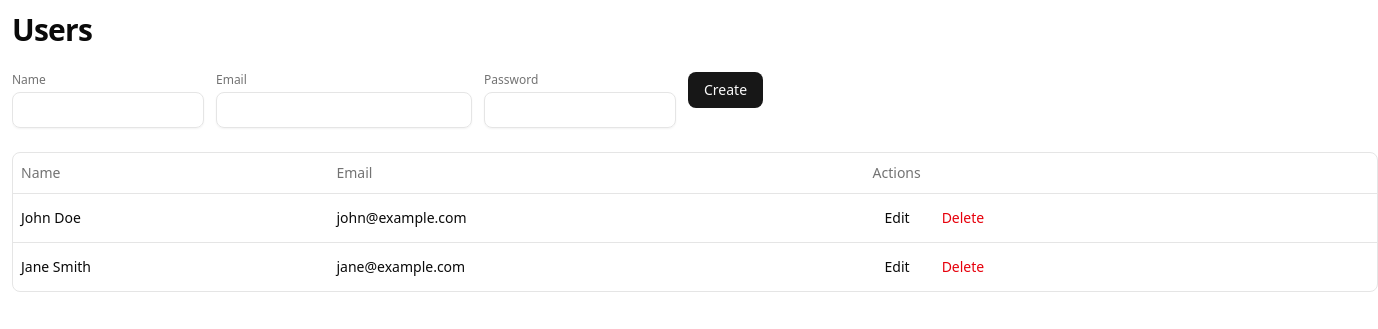
UsersPage › shows validation error for short password
This screenshot has width=1378, height=329.
Expected: the text "John Doe" is shown, [13,193,328,242]
In the field labelled "Name": [108, 110] box [12,92,204,128], type "Test User"
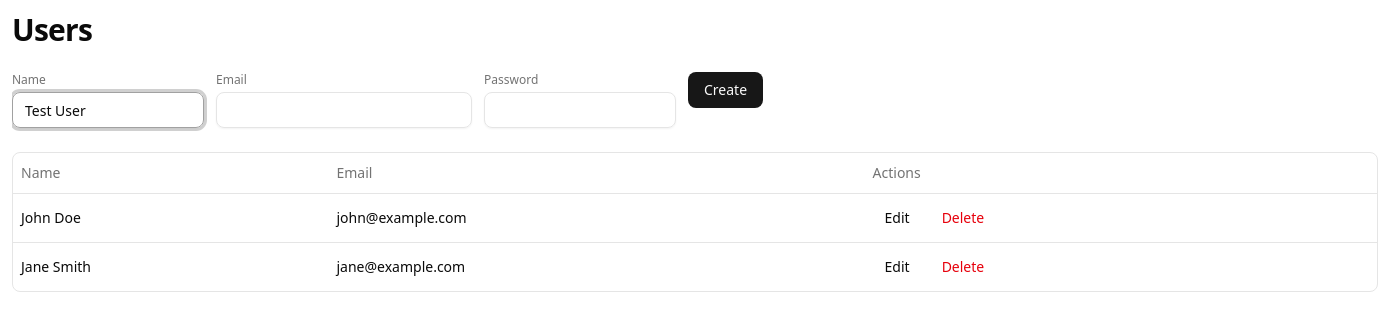
In the field labelled "Email": [344, 110] box [216,92,472,128], type "test@example.com"
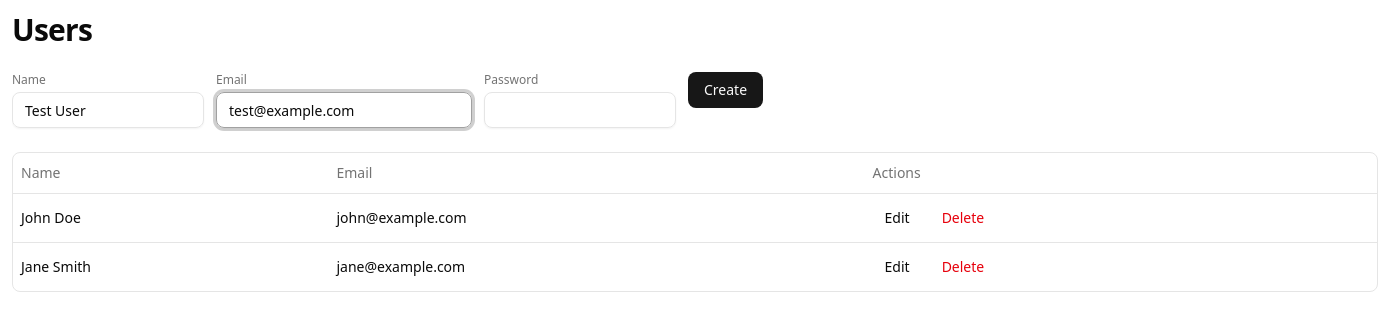
In the password field labelled "Password": [580, 110] box [484,92,676,128], type "short"
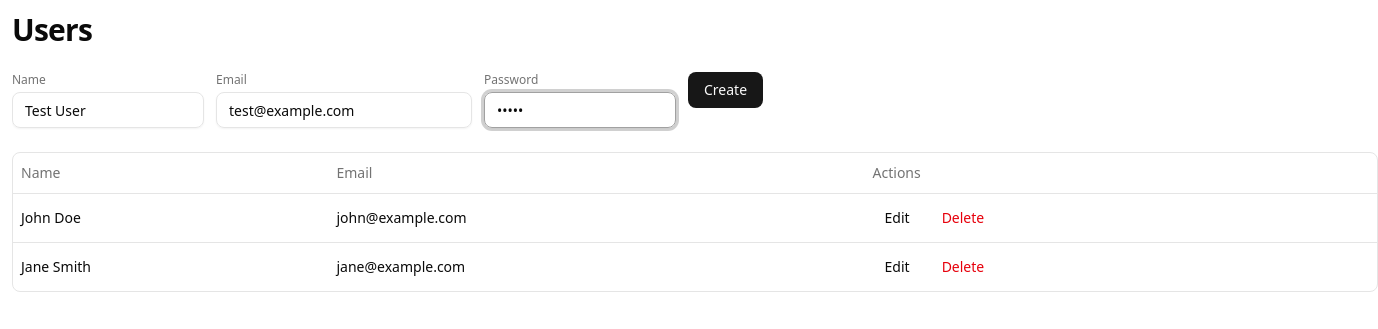
Click the button "Create": [726, 90] box [688,72,763,108]
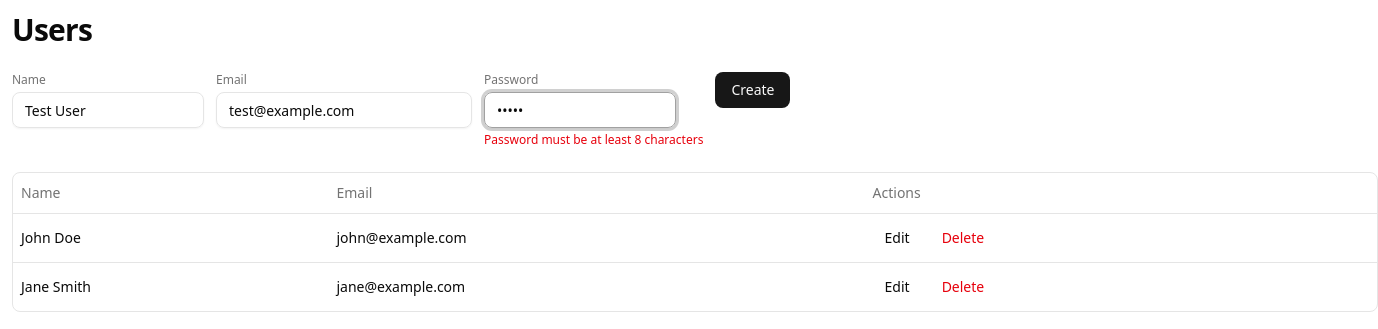
Expected: the text "Password must be at least 8 characters" is shown, [484,132,703,148]
